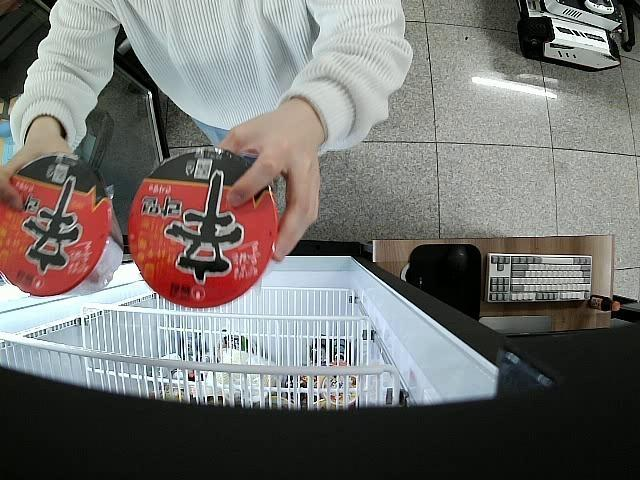01_ShinRamen_L: (128, 149, 280, 308), (0, 152, 123, 296)
